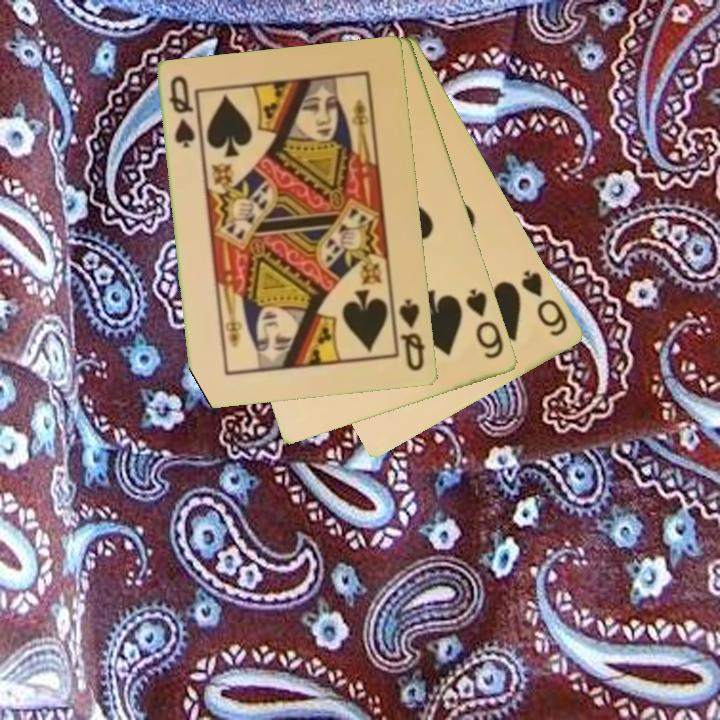6s: (518, 266, 571, 340), (462, 285, 507, 363)
Qs: (166, 73, 199, 152), (396, 296, 428, 375)
